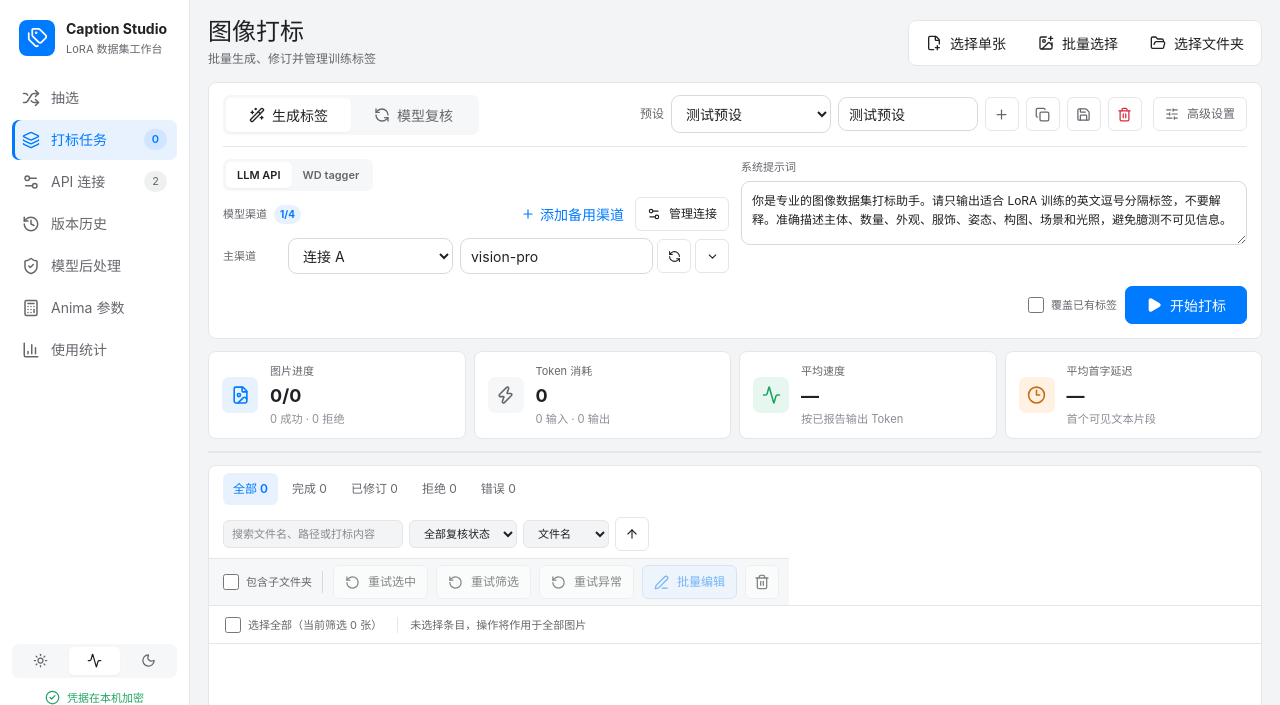
App preset management › switches the tagging source to a local model from the API selector row
Expected: the dropdown named "渠道 1 连接" is shown, [288,238,453,274]
Click the button "WD tagger": (331, 175) [292,162,370,188]
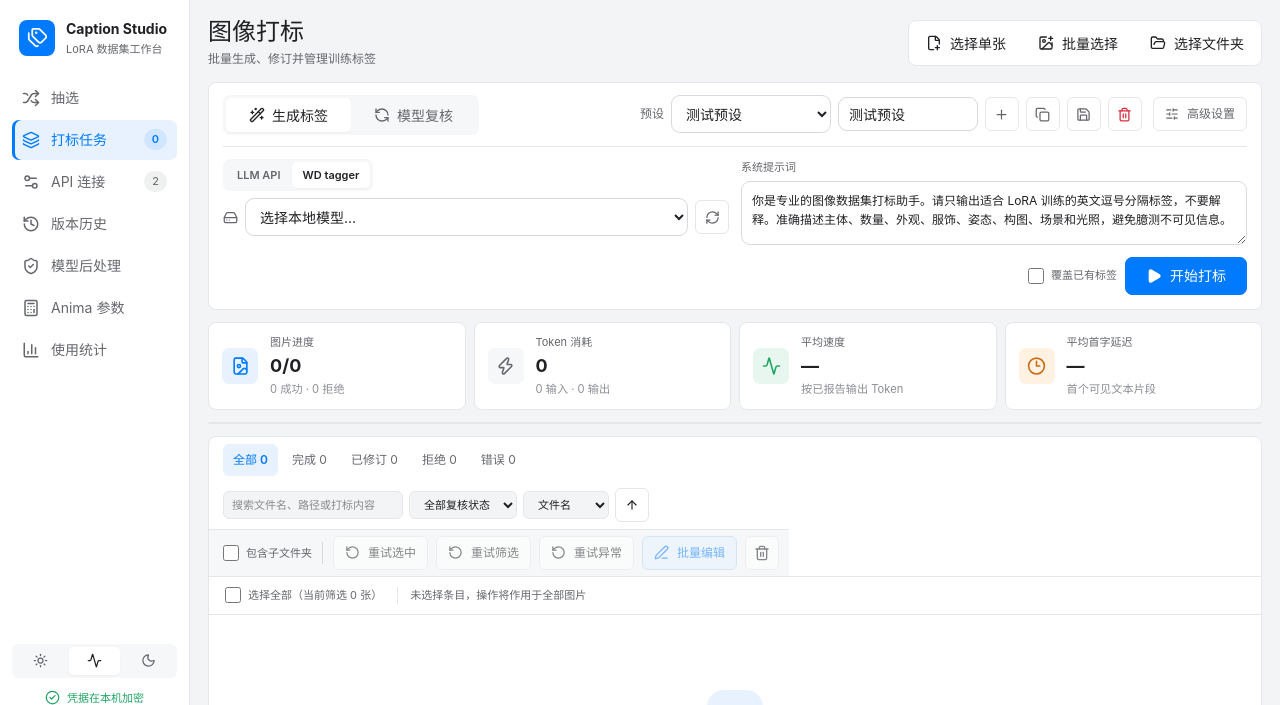
Expected: the dropdown named "本地打标模型" is shown
Select "WD v1.4 Moat · 已安装" in the dropdown named "本地打标模型": (466, 217) [245,198,688,236]
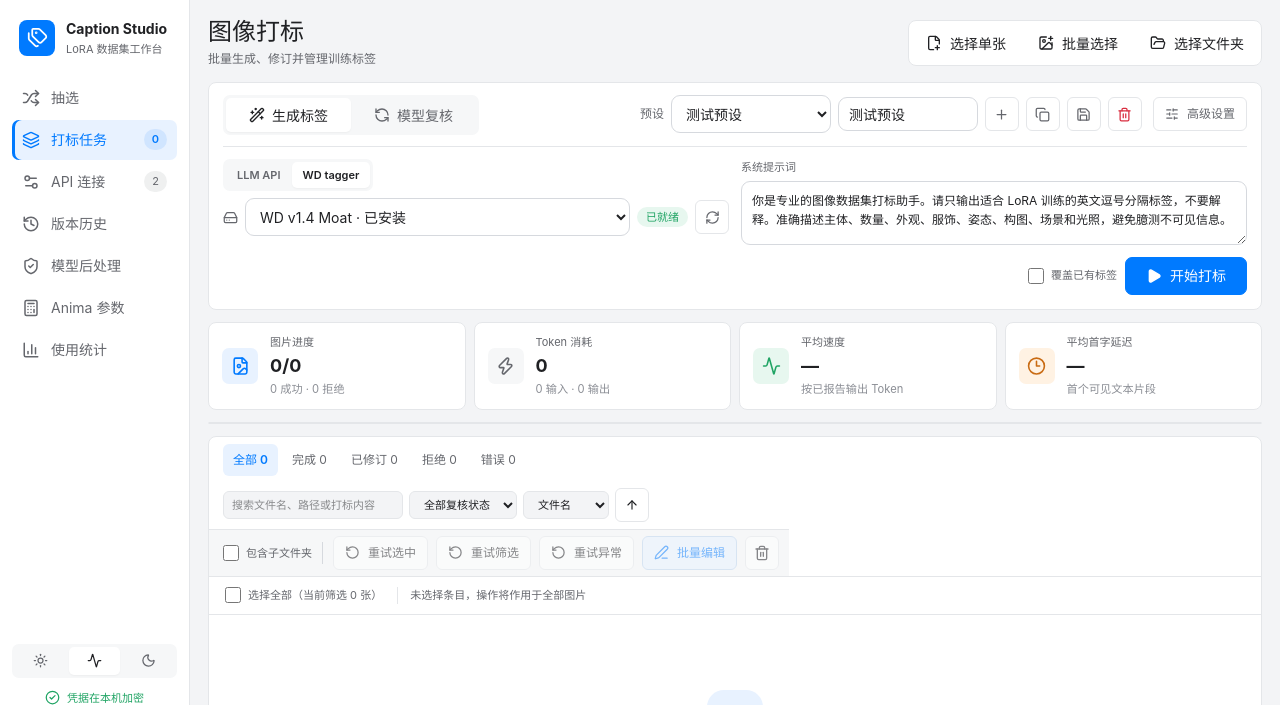
Expected: the text "已就绪" is shown, [637,207,688,227]
Note: 切回 LLM API 后渠道编辑器恢复。
Click the button "LLM API": (259, 175) [226,162,292,188]
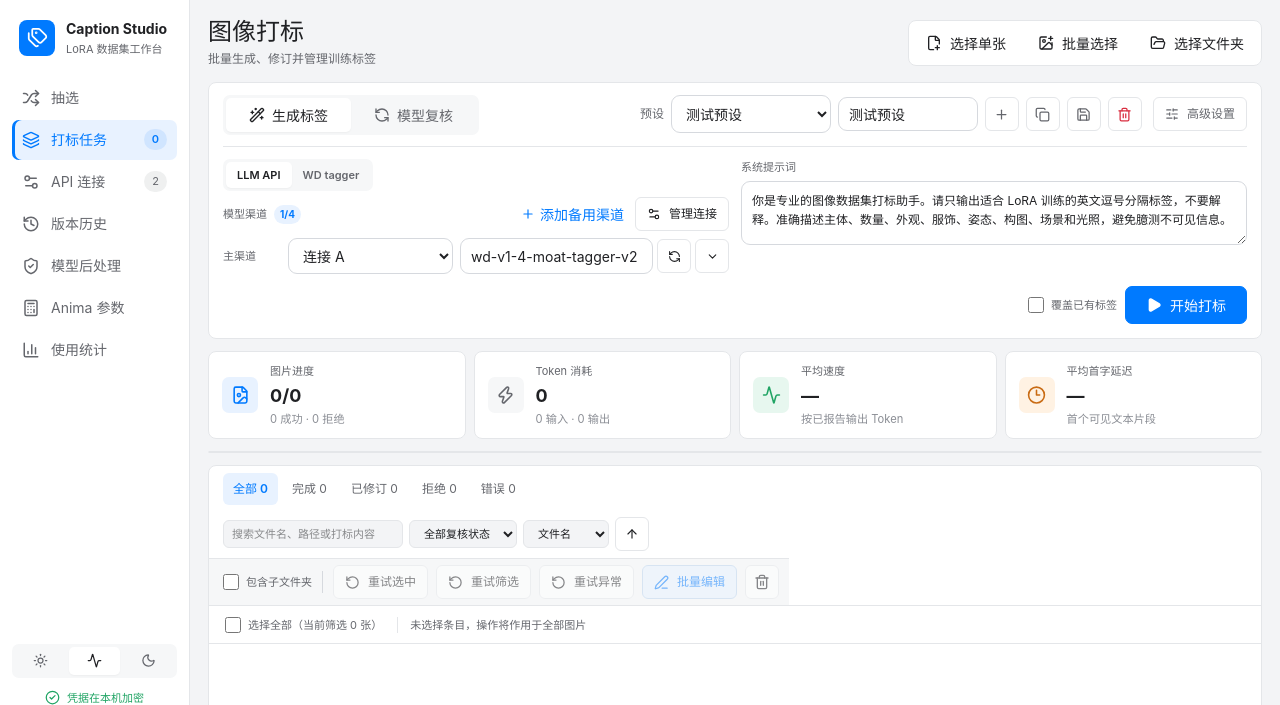
Expected: the dropdown named "渠道 1 连接" is shown, [288,238,453,274]
